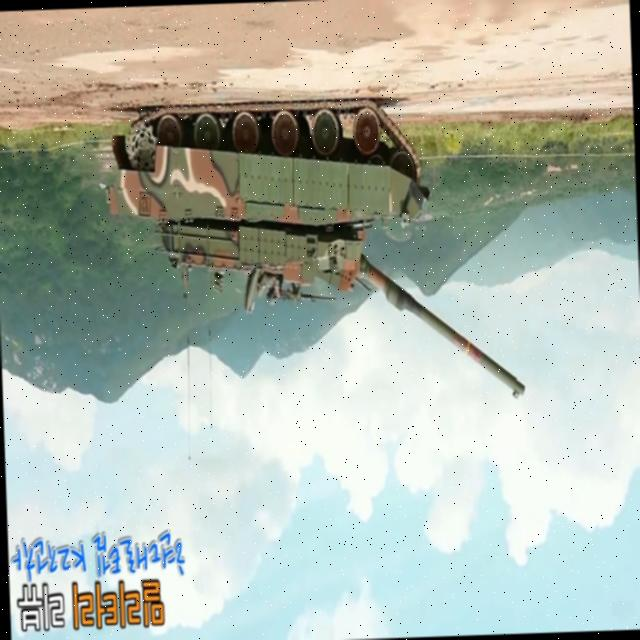korea tank: (101, 91, 525, 416)
